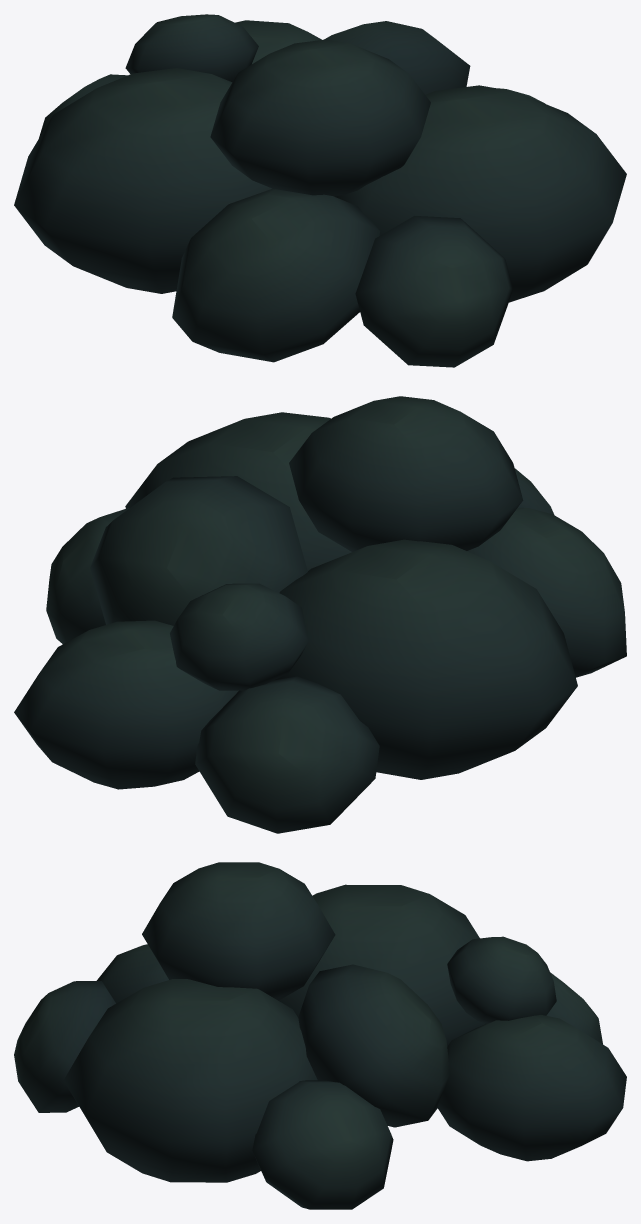
File: nuggets_coal_pile.fbx
3 views of the same model, one above another, from view 1: azimuth 30°, elevation 25°; view 2: azimuth 150°, elevation 25°; view 3: azimuth 270°, elevation 25° (orthographic). The views are drawn at different scales.
Visible parts, largest first — view 1: nuggets_coal_pile; view 2: nuggets_coal_pile; view 3: nuggets_coal_pile.
Boxes of the visible parts, x1=… form: nuggets_coal_pile: x1=14, y1=14, x2=626, y2=367; nuggets_coal_pile: x1=14, y1=396, x2=626, y2=833; nuggets_coal_pile: x1=14, y1=862, x2=626, y2=1209.
Size of the model in its own units: 152 by 70.1 by 173.
Materials: 1 (1 with a texture image).
